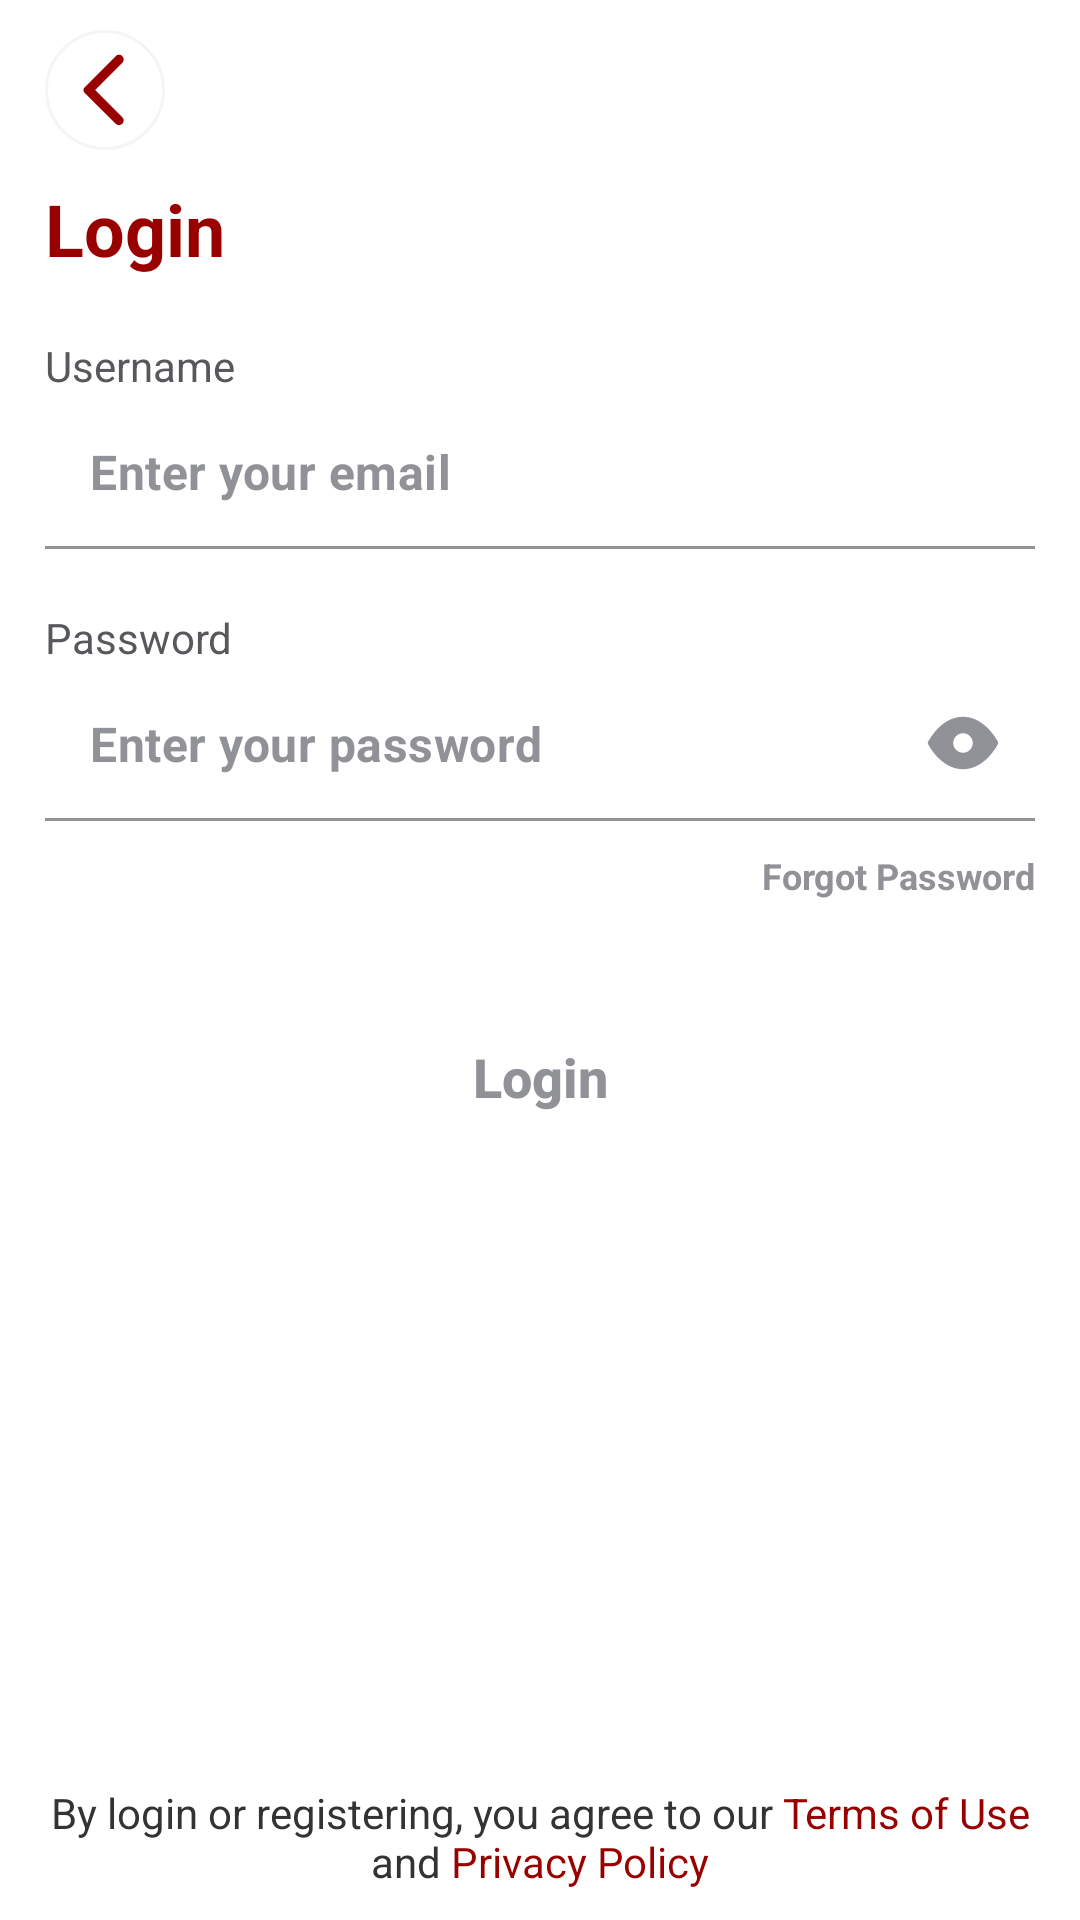

Where to tap for icons on this 1080px×1920px app screen, as [x,y]:
back: [103,90]
